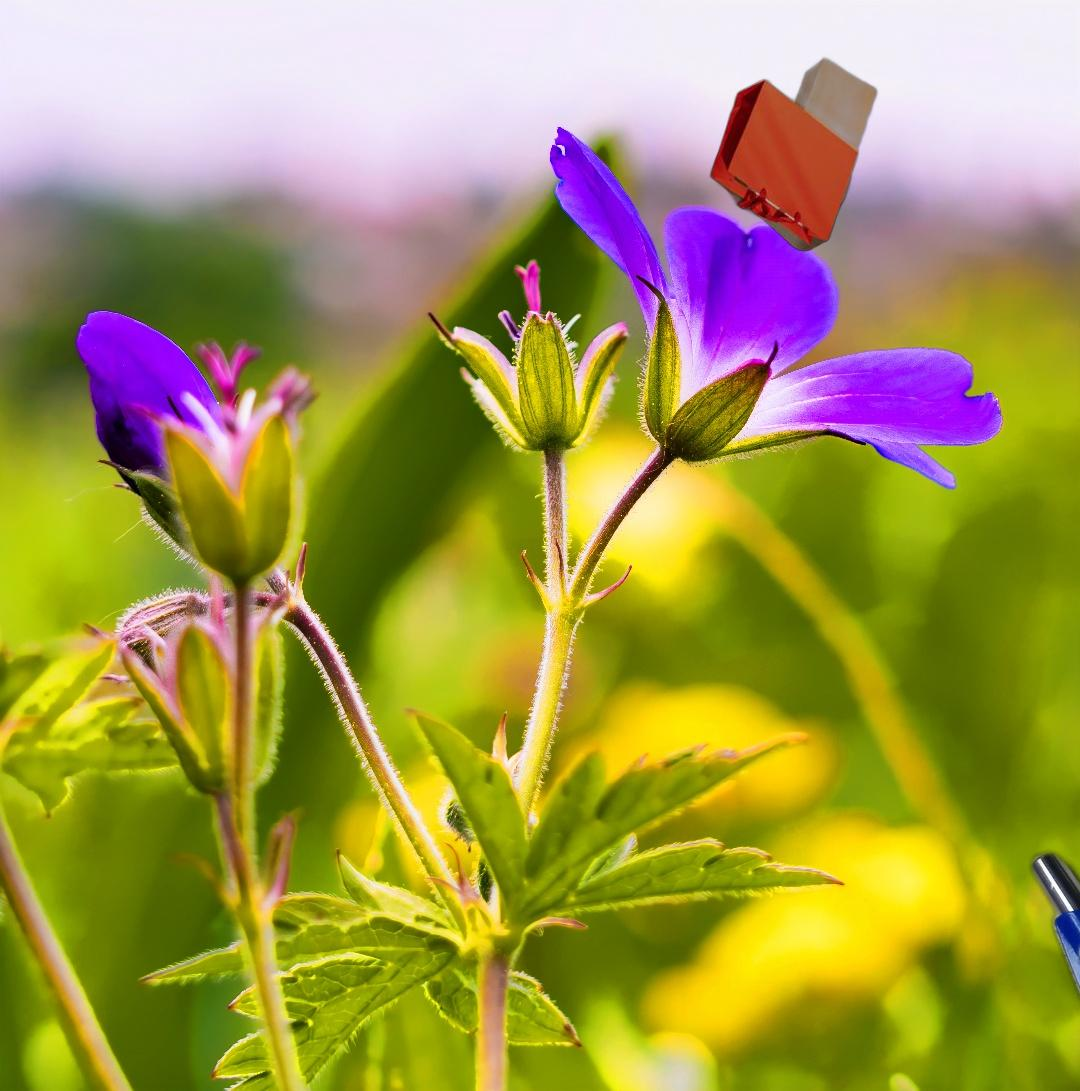paper-bag: (707, 54, 880, 254)
penholder: (1022, 686, 1080, 1091)
trashbox-cardboard: (562, 547, 1080, 1091)
